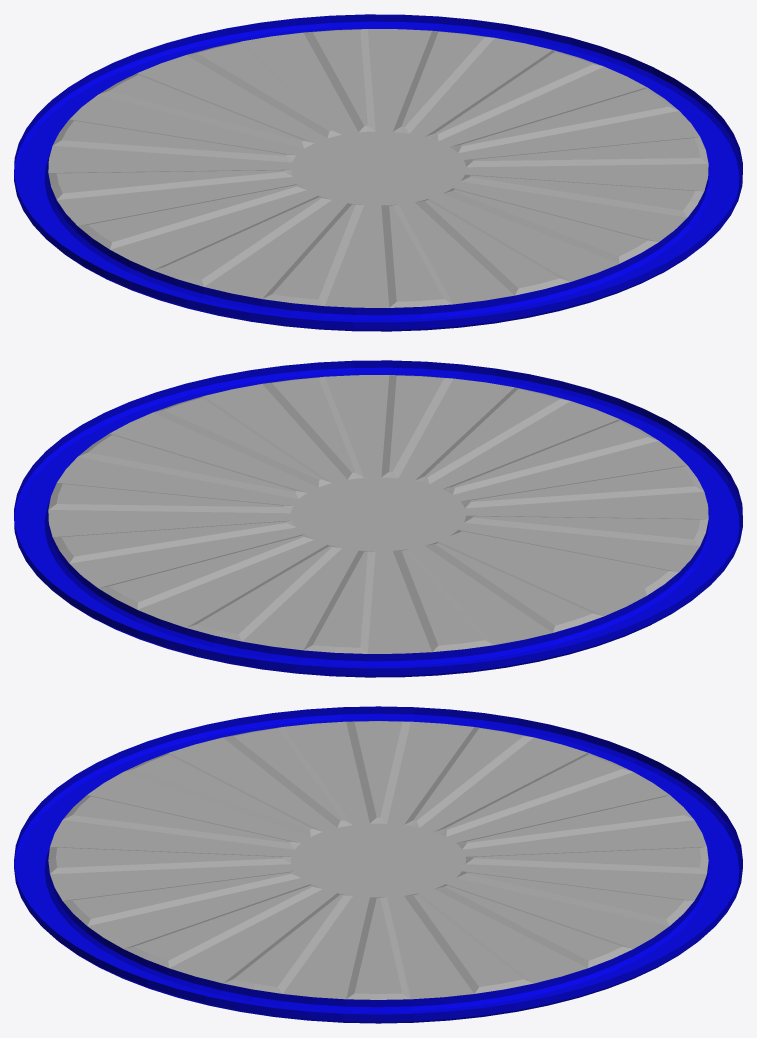
The model's file is CurvedCeilingLarge.fbx.
The picture shows the model from 3 angles, top to bottom: view 1: azimuth 30°, elevation 25°; view 2: azimuth 150°, elevation 25°; view 3: azimuth 270°, elevation 25°; orthographic projection.
Visible parts, largest first — view 1: CurvedCeilingLarge; view 2: CurvedCeilingLarge; view 3: CurvedCeilingLarge.
Part boxes in pixels (box(x1,y1,x2,y2)): CurvedCeilingLarge: box(14, 14, 742, 331); CurvedCeilingLarge: box(14, 360, 742, 677); CurvedCeilingLarge: box(14, 706, 742, 1023).
Bounding box in the file's own units: 48 × 0.9671 × 48.
